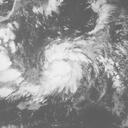cyclone: (41, 39, 88, 92)
